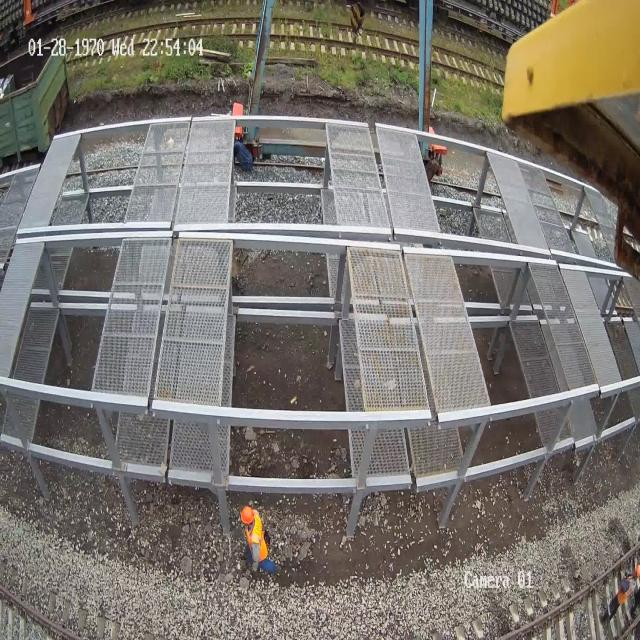Helmet: (240, 505, 254, 524)
Person: (240, 505, 277, 573), (598, 575, 632, 625)
